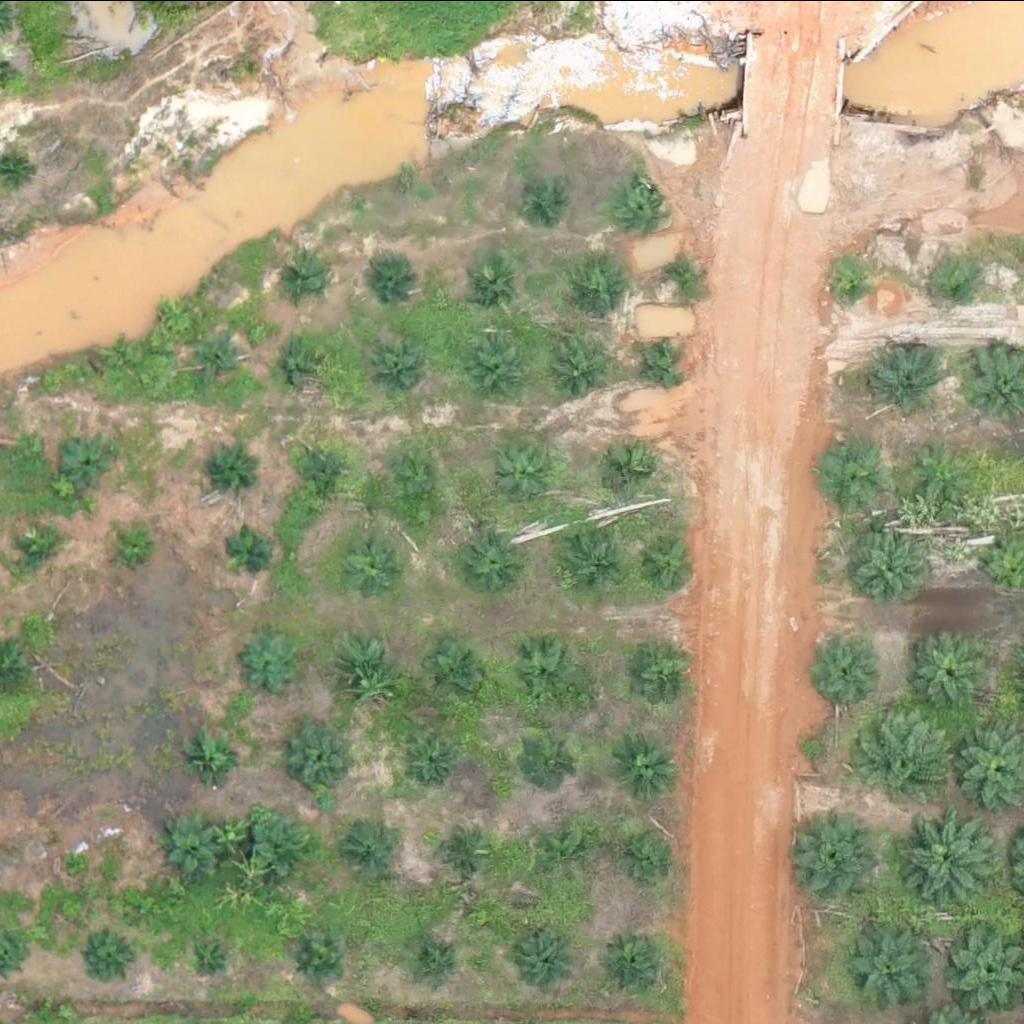Kelapa_Sawit: (857, 705, 957, 805), (890, 810, 990, 910), (791, 808, 879, 896), (846, 521, 934, 608), (903, 626, 991, 713), (847, 929, 935, 1016), (868, 343, 944, 418), (813, 633, 889, 708), (395, 451, 458, 514), (371, 336, 434, 399), (188, 728, 251, 791), (288, 724, 351, 787), (615, 737, 678, 800), (468, 338, 531, 401), (598, 928, 661, 991), (513, 641, 576, 704), (620, 643, 683, 706), (520, 727, 583, 790), (637, 531, 700, 594), (818, 442, 881, 505), (564, 251, 627, 314), (549, 337, 612, 400), (164, 814, 227, 877), (427, 641, 490, 703), (342, 530, 405, 592), (240, 631, 303, 693), (559, 528, 622, 590), (533, 816, 596, 878), (463, 531, 526, 593), (914, 437, 977, 499), (501, 442, 564, 504), (599, 437, 662, 499), (459, 252, 522, 314), (253, 813, 316, 875), (340, 635, 403, 697), (615, 821, 677, 883), (520, 925, 582, 987), (634, 337, 685, 387), (655, 251, 706, 301), (83, 930, 134, 980), (13, 525, 64, 575), (421, 930, 471, 980), (353, 828, 403, 878), (446, 820, 496, 870), (409, 737, 459, 787), (293, 934, 343, 984), (370, 248, 420, 298), (201, 441, 251, 491), (226, 523, 276, 573), (196, 334, 246, 384), (65, 435, 115, 485), (281, 338, 331, 388), (280, 252, 330, 302), (621, 180, 671, 230), (516, 170, 566, 220), (829, 258, 879, 308), (936, 262, 986, 312), (305, 444, 355, 494), (185, 930, 235, 980), (103, 338, 141, 376), (114, 526, 152, 564)
